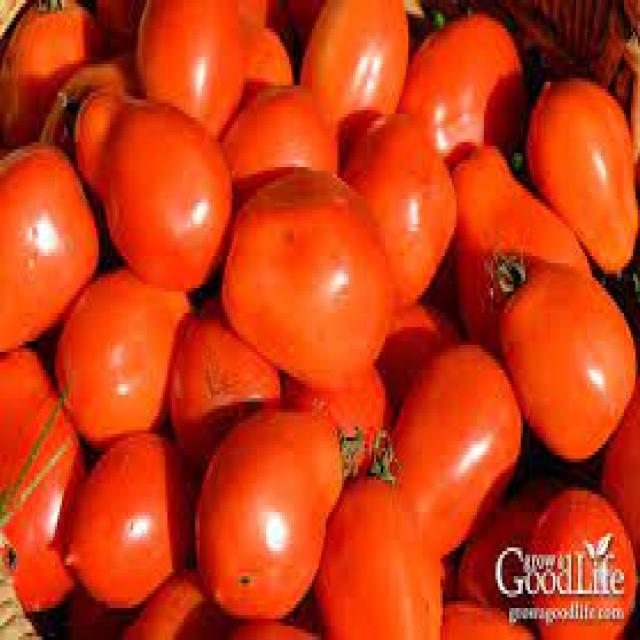Fresh_tomato: (242, 160, 381, 378), (502, 252, 631, 454), (204, 425, 318, 596), (119, 110, 223, 288), (75, 436, 183, 596), (414, 24, 520, 163)
